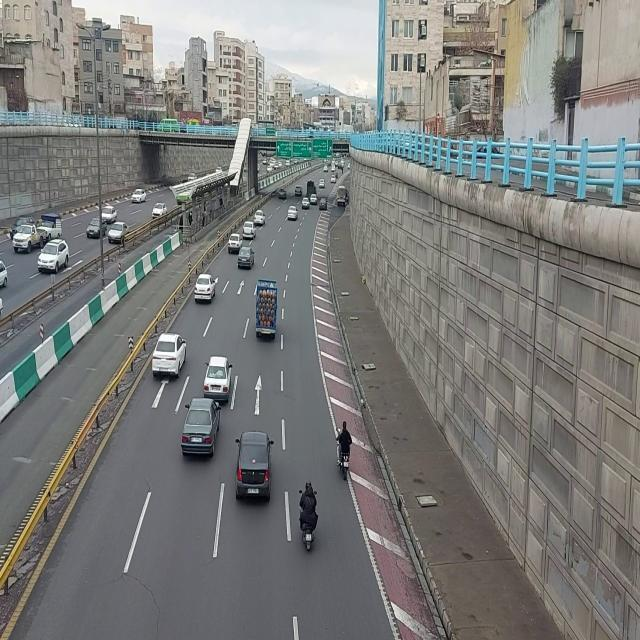Car: (233, 428, 275, 505), (181, 394, 223, 462), (151, 332, 188, 381), (203, 354, 235, 402), (37, 240, 69, 274), (194, 274, 218, 303), (108, 221, 130, 245), (236, 245, 255, 271), (86, 217, 107, 240), (227, 231, 242, 255), (102, 205, 118, 225), (242, 221, 257, 241), (152, 201, 168, 219), (253, 209, 267, 227), (131, 189, 147, 204), (287, 206, 299, 222), (319, 197, 328, 212), (301, 197, 310, 211), (278, 188, 288, 200), (310, 194, 318, 207), (188, 173, 198, 183), (295, 185, 303, 197), (319, 178, 326, 190), (331, 174, 337, 184), (324, 165, 329, 173), (331, 165, 335, 172)
Motorcycle: (298, 478, 321, 554), (336, 419, 355, 481), (341, 166, 345, 175)
Pickup: (254, 277, 279, 342), (12, 224, 46, 254), (37, 214, 63, 240), (306, 179, 316, 197)
